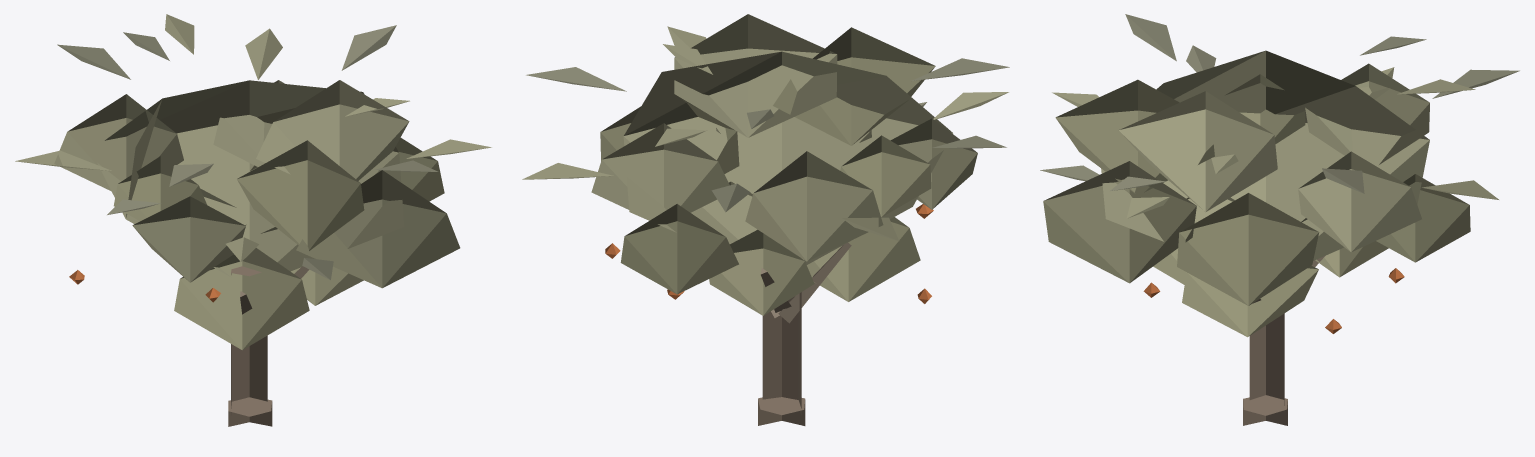
The model's file is shu.mangguo__winter.glb.
3 renders of one model, left to right at view 1: azimuth 30°, elevation 25°; view 2: azimuth 150°, elevation 25°; view 3: azimuth 270°, elevation 25°, orthographic. The views are drawn at different scales.
Visible parts, largest first — view 1: shu.mangguo__winter; view 2: shu.mangguo__winter; view 3: shu.mangguo__winter.
Boxes of the visible parts, x1=… form: shu.mangguo__winter: x1=15, y1=14, x2=491, y2=426; shu.mangguo__winter: x1=522, y1=14, x2=1009, y2=425; shu.mangguo__winter: x1=1040, y1=14, x2=1519, y2=425.
Size of the model in its own units: 12.41 by 11.4 by 13.39.
